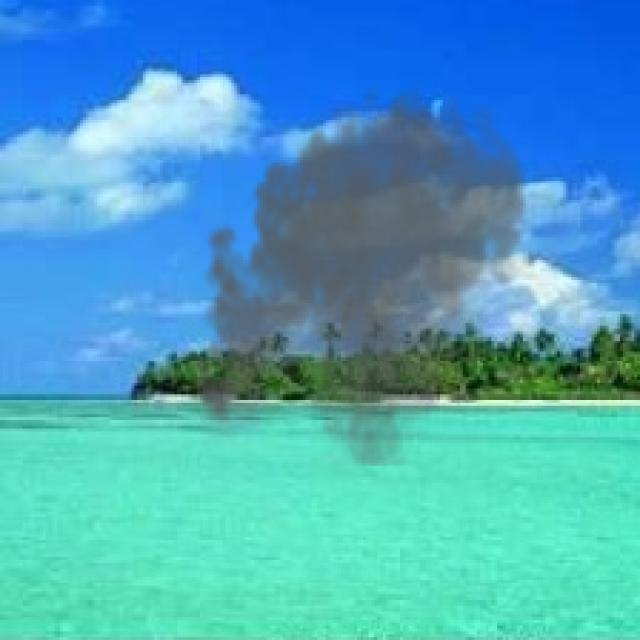Smoke: (182, 71, 534, 466)
